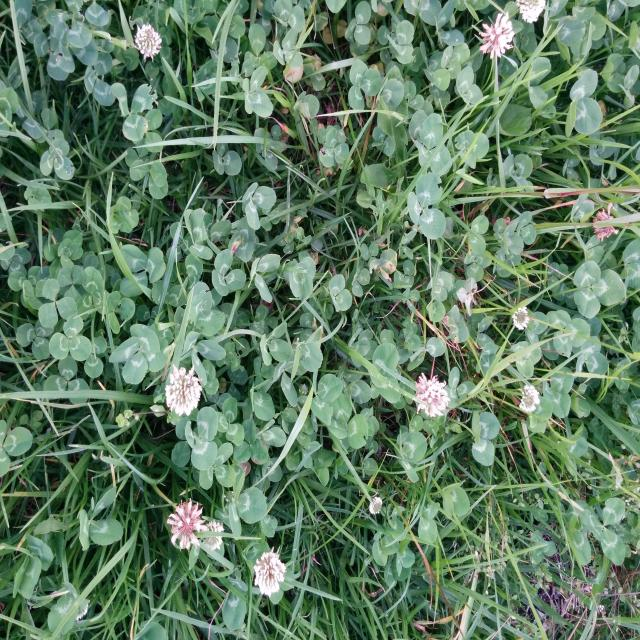Four Leaf Clover: (109, 324, 168, 384)
